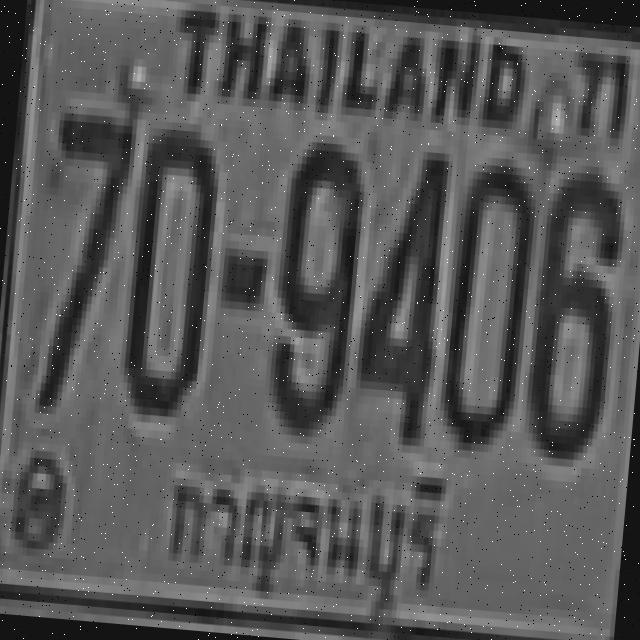0: (116, 119, 218, 411), (436, 155, 534, 446)
4: (352, 140, 449, 439)
6: (522, 162, 624, 454)
7: (32, 104, 136, 411)
9: (262, 132, 364, 431)
Kanchanaburi: (155, 454, 457, 622)
